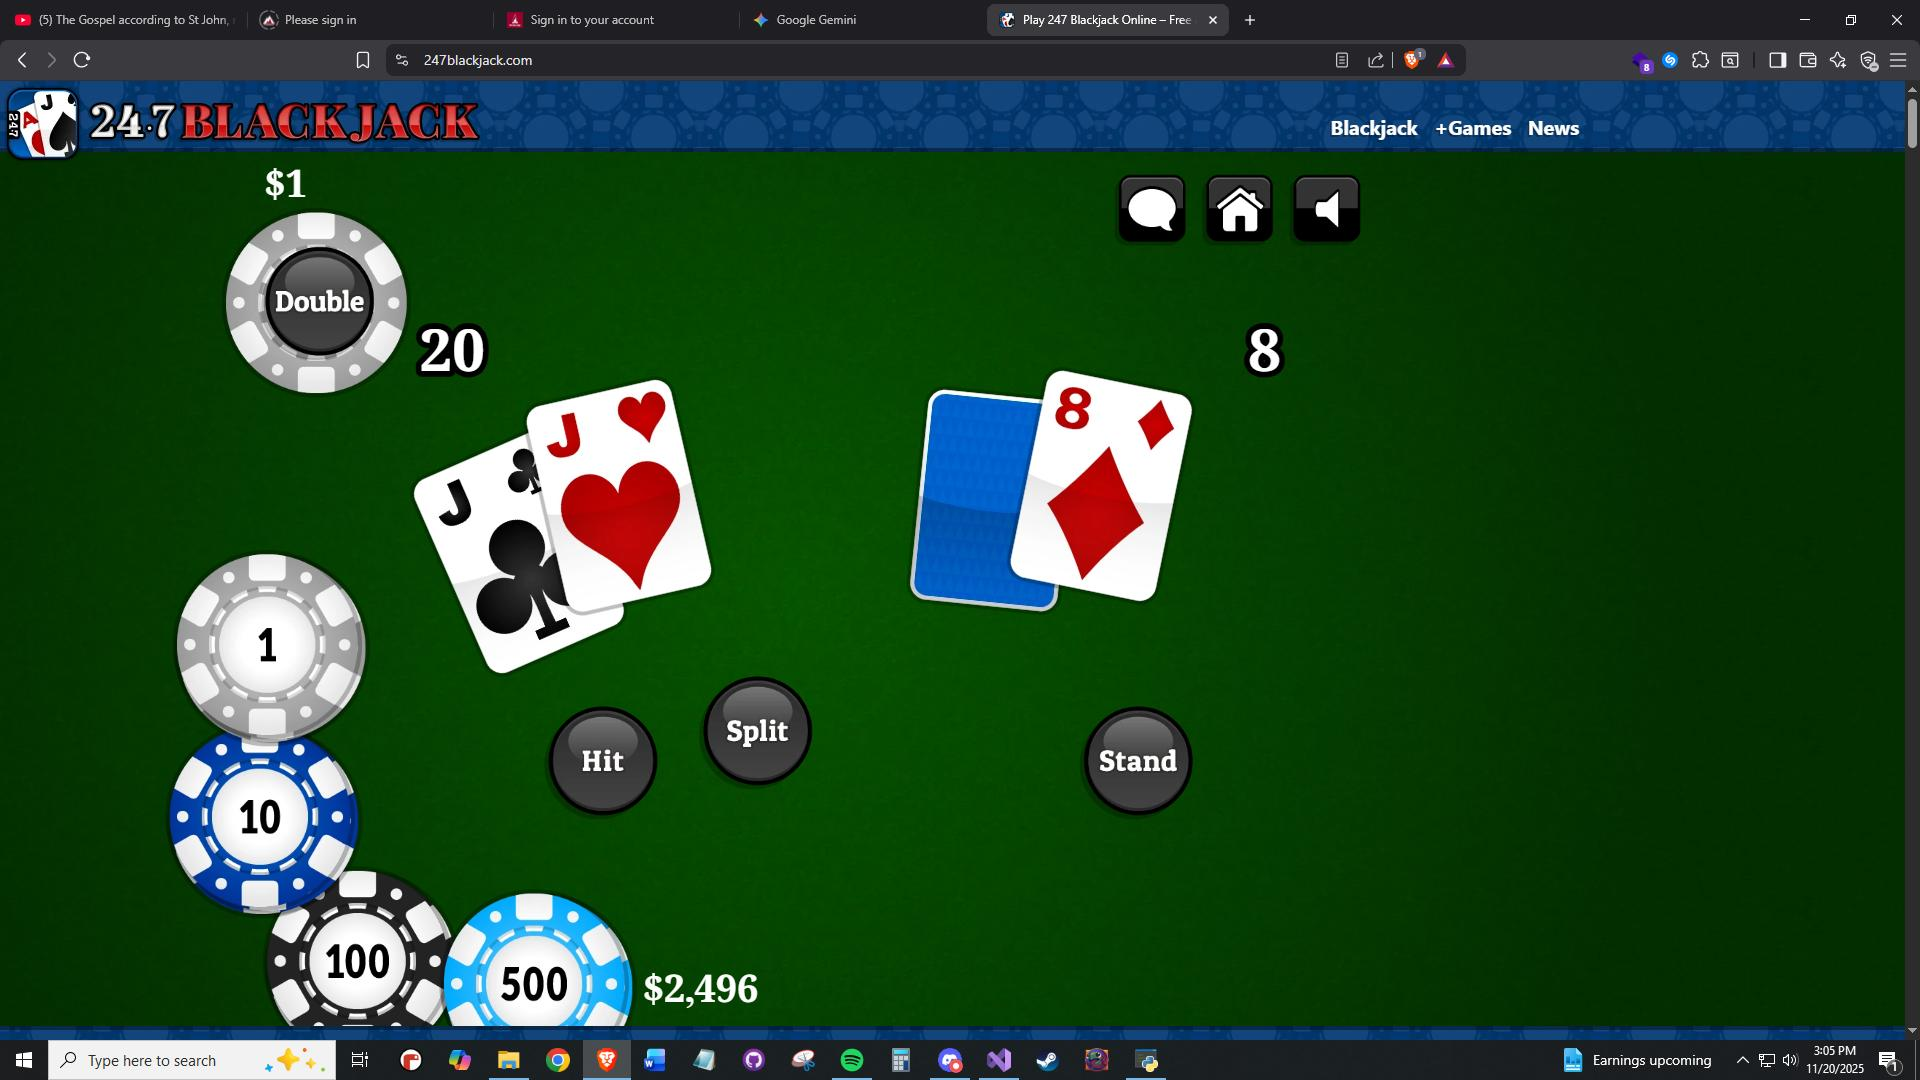8: (1010, 371, 1191, 600)
J: (414, 433, 622, 673), (527, 381, 709, 608)
